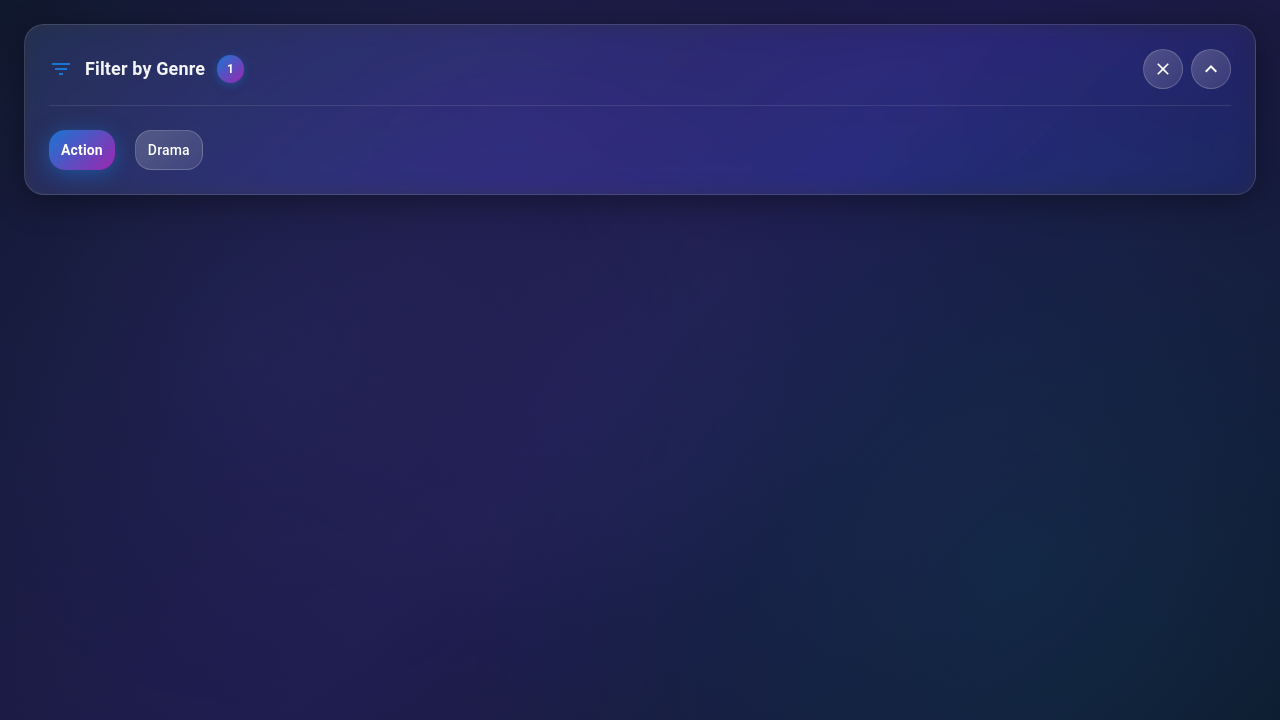
Test: GenreFilter Component › toggles expand/collapse when expand button clicked
The image size is (1280, 720).
What coordinates should you click on to do the following:
click the button titled "Collapse"
I would click on:
 (1211, 69)
Its box is [1191,49,1231,89].
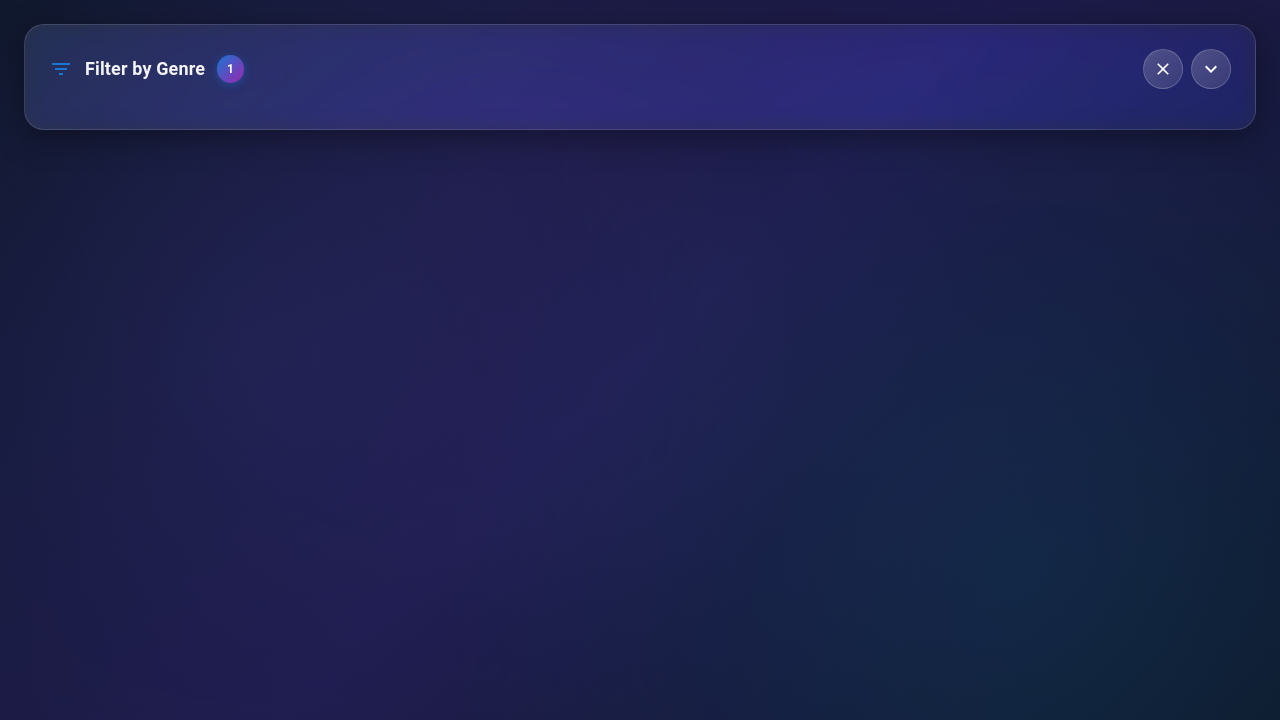
Check: the button titled "Expand" is shown, box [1191,49,1231,89]
